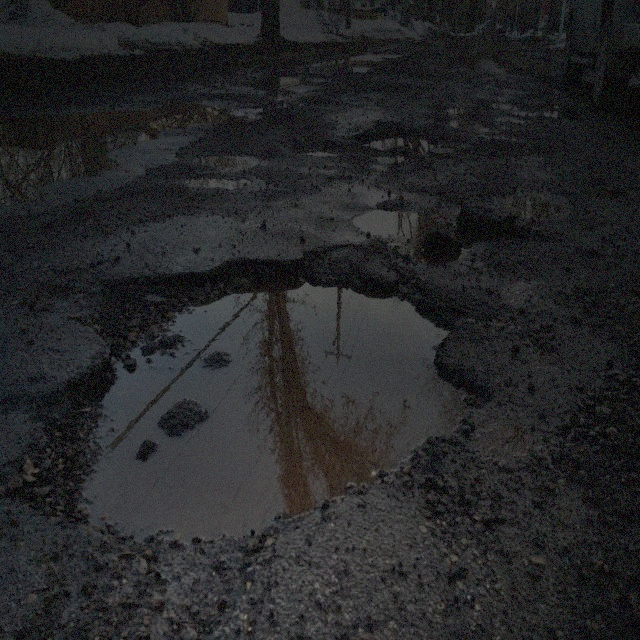pothole: (42, 249, 462, 548), (354, 125, 442, 156), (302, 141, 342, 162)
